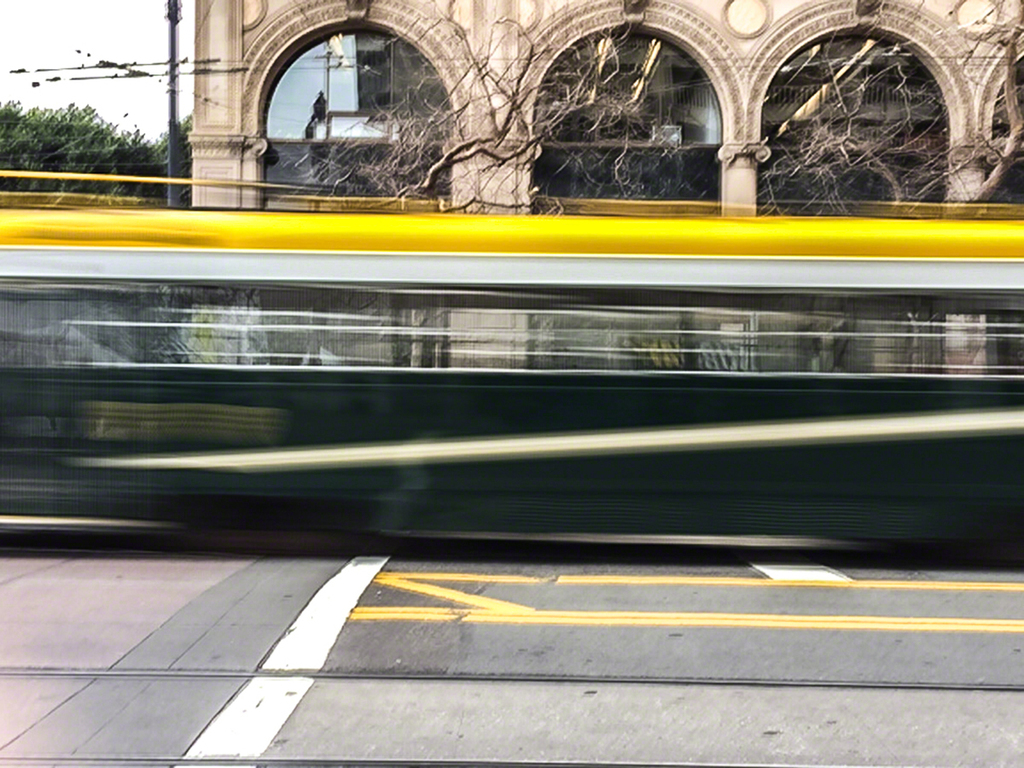Bus: (0, 164, 1023, 546)
